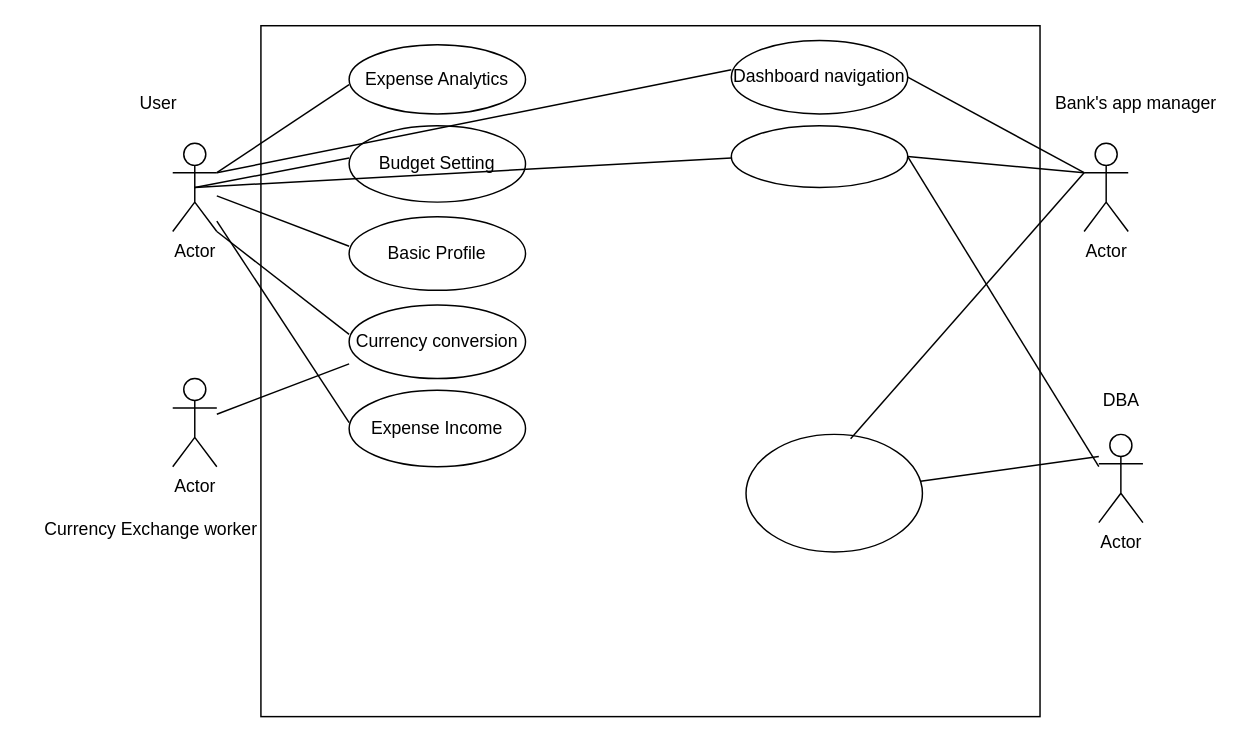
The diagram is 1255 pixels wide and 742 high, and some of its shapes have lost their labels. The centre of each missing label's shape, as x and y in pixels:
"Data encryption" belongs at (x=819, y=155).
"Database Management" belongs at (x=833, y=492).
